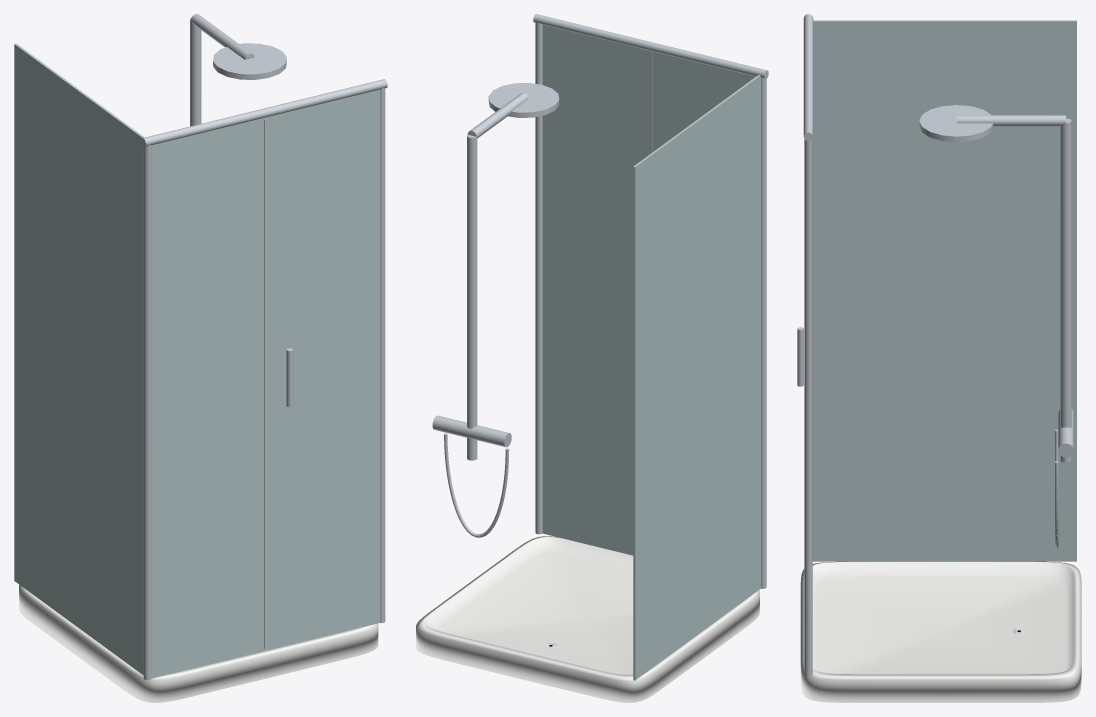
The model's file is Zuhanykabin_90.obj.
3 renders of one model, left to right at view 1: azimuth 30°, elevation 25°; view 2: azimuth 150°, elevation 25°; view 3: azimuth 270°, elevation 25°, orthographic. The views are drawn at different scales.
Size of the model in its own units: 0.9 by 2.02 by 0.911.
